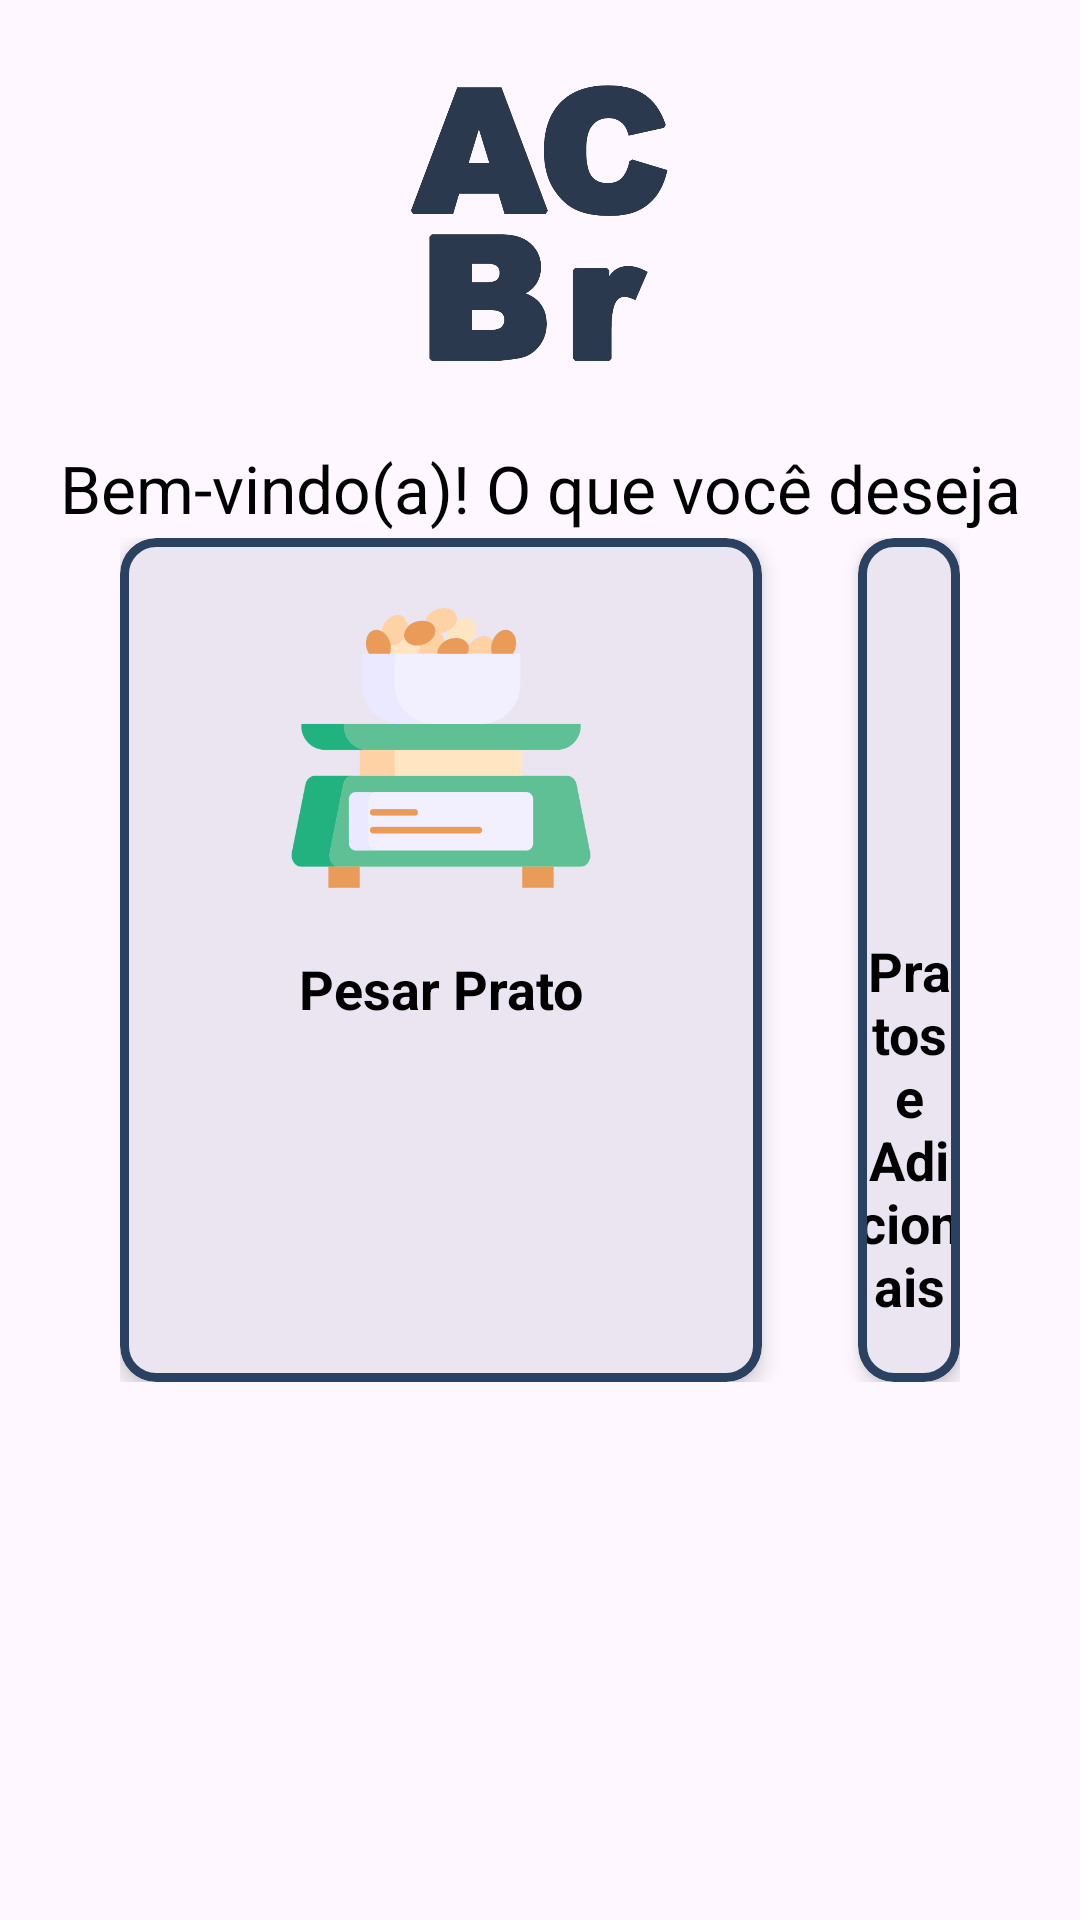

Locate icon controls on the screen. Image size 1080px x 1920px, boxes as (x1, y1, x2, y2).
Imagem de balança: (291, 608, 591, 888)
